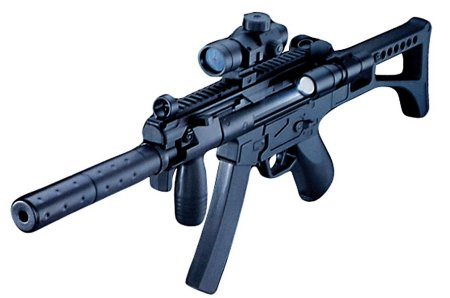rifle: (16, 10, 436, 277)
